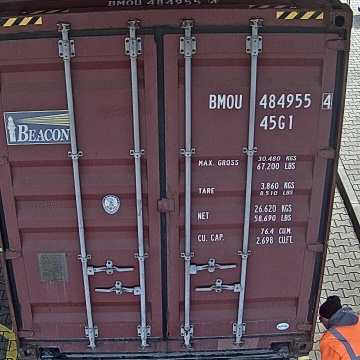serial_id: (208, 93, 332, 108)
